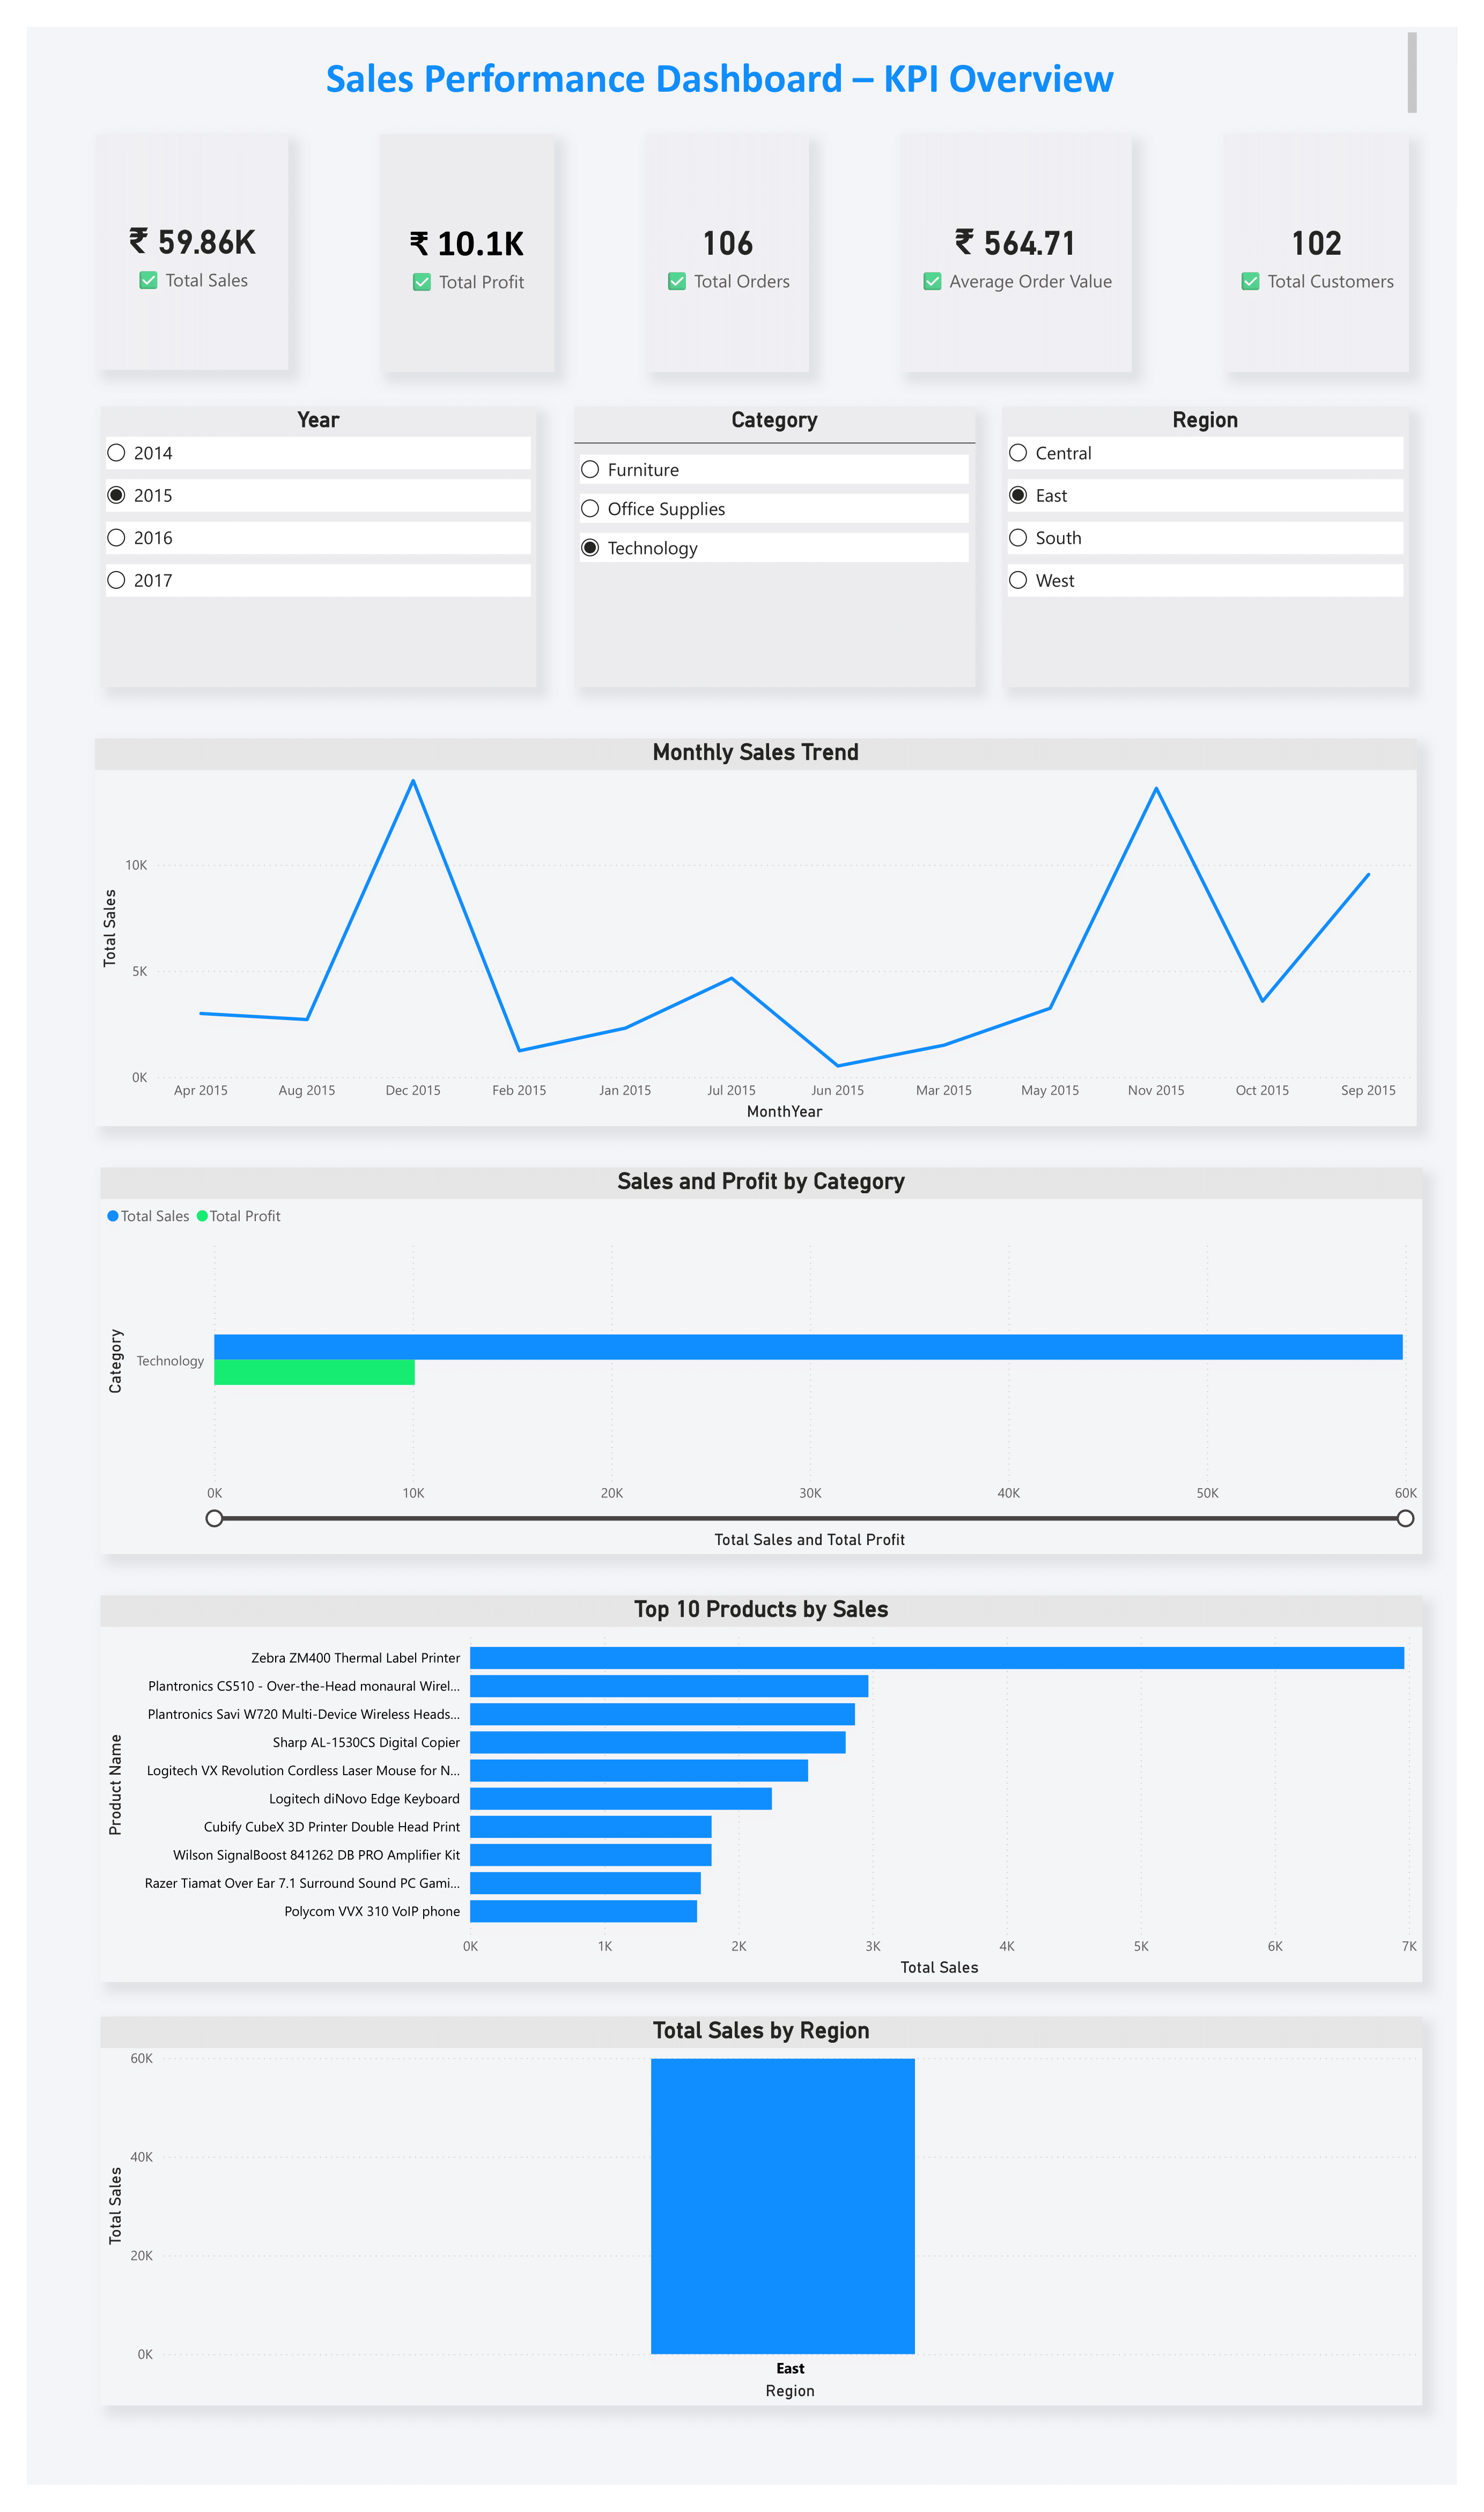

The page's visual inventory and layout, read from the dashboard file:
{"tool":"powerbi","page":{"name":"Page 1","canvas":[1280,2200],"ordinal":0},"visuals":[{"type":"card","fields":{"Values":["Orders.Total Sales"]},"box":[61.6,96,172.3,210.6],"z":0},{"type":"card","fields":{"Values":["Orders.Total Profit"]},"box":[316,96,155.9,213.4],"z":1000},{"type":"card","fields":{"Values":["Orders.Total Orders"]},"box":[554,96,146.4,213.4],"z":2000},{"type":"card","fields":{"Values":["Orders.Total Customers"]},"box":[1071,96,165.5,213.4],"z":3000},{"type":"card","fields":{"Values":["Orders.AOV"]},"box":[782.4,96,206.5,213.4],"z":4000},{"type":"textbox","box":[0,0,1248.6,85.7],"z":5000},{"type":"lineChart","title":"Monthly Sales Trend","fields":{"Category":["Orders.MonthYear"],"Y":["Orders.Total Sales"]},"box":[61.4,637.1,1182.9,347.1],"z":6000},{"type":"clusteredBarChart","title":"Sales and Profit by Category","fields":{"Category":["Orders.Category"],"Y":["Orders.Total Sales","Orders.Total Profit"]},"box":[65.7,1021.4,1182.9,345.7],"z":7000},{"type":"clusteredBarChart","title":"Top 10 Products by Sales","fields":{"Category":["Orders.Product Name"],"Y":["Orders.Total Sales"]},"box":[65.7,1404.3,1182.9,345.7],"z":8000},{"type":"clusteredColumnChart","fields":{"Category":["Orders.Region"],"Y":["Orders.Total Sales"]},"box":[65.7,1781.4,1182.9,347.1],"z":9000},{"type":"listSlicer","title":"Year","fields":{"Values":["Orders.Year"]},"box":[65.7,340,390,251.4],"z":10000},{"type":"listSlicer","fields":{"Values":["Orders.Category"]},"box":[490,340,358.6,251.4],"z":11000},{"type":"listSlicer","fields":{"Values":["Orders.Region"]},"box":[872.9,340,364.3,251.4],"z":12000}]}

Visuals, with their boxes on the page's 1280x2200 design canvas (x1, y1, x2, y2). These are canvas units, not pixel positions in the 1484x2512 screenshot, which may show the page scaled, cropped or inside an application window:
card - Orders.Total Sales: box(62, 96, 234, 307)
card - Orders.Total Profit: box(316, 96, 472, 309)
card - Orders.Total Orders: box(554, 96, 700, 309)
card - Orders.Total Customers: box(1071, 96, 1236, 309)
card - Orders.AOV: box(782, 96, 989, 309)
textbox: box(0, 0, 1249, 86)
"Monthly Sales Trend" lineChart: box(61, 637, 1244, 984)
"Sales and Profit by Category" clusteredBarChart: box(66, 1021, 1249, 1367)
"Top 10 Products by Sales" clusteredBarChart: box(66, 1404, 1249, 1750)
clusteredColumnChart - Orders.Region x Orders.Total Sales: box(66, 1781, 1249, 2128)
"Year" listSlicer: box(66, 340, 456, 591)
listSlicer - Orders.Category: box(490, 340, 849, 591)
listSlicer - Orders.Region: box(873, 340, 1237, 591)
